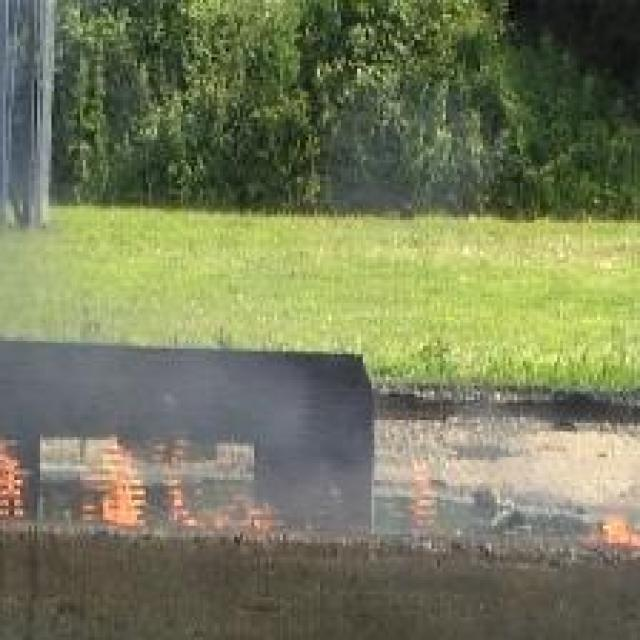Fire: (90, 431, 144, 520), (588, 507, 640, 547), (2, 438, 28, 516)
